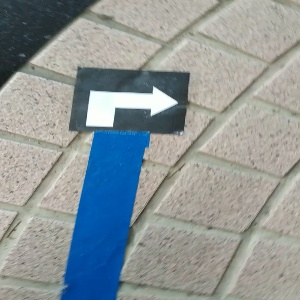right: (70, 67, 184, 137)
